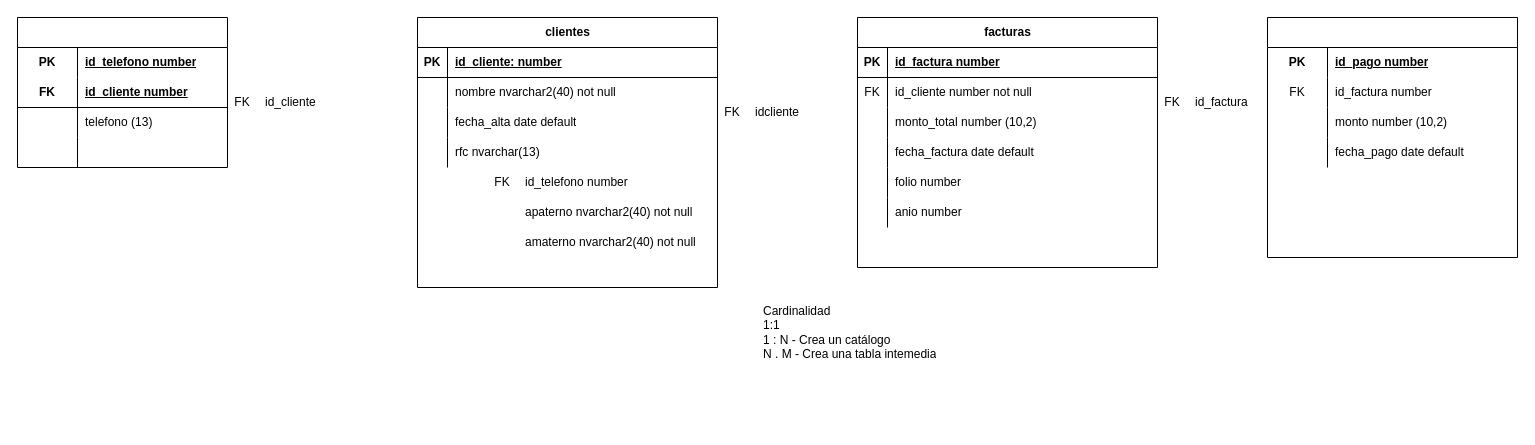
Image size: 1535x445. Some labels were removed from this diagram. The box of each missing label's shape, as (x1, y1, x2, y2) in pixels:
pagos: (1266, 16, 1518, 258)
telefonos: (16, 16, 228, 168)
